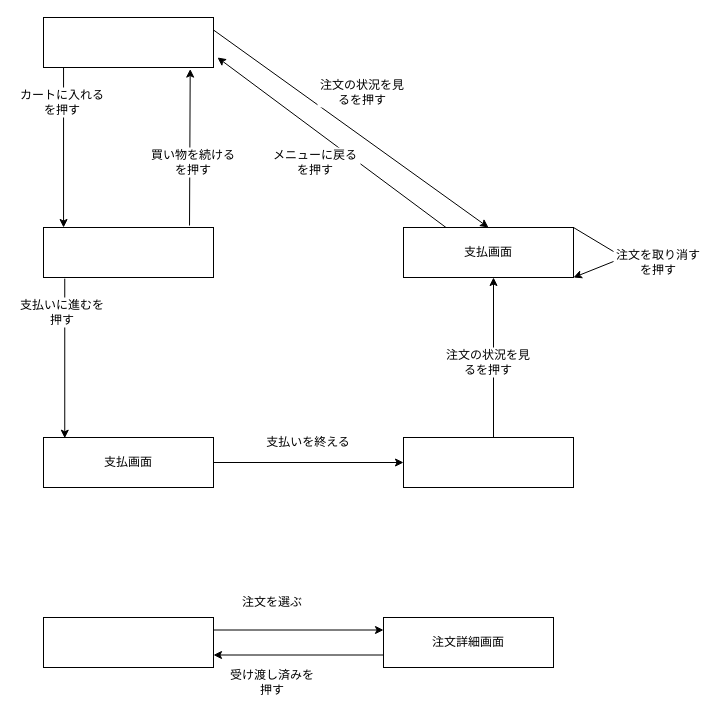
This 720x715 diagram has some shape labels left out. Here are the shapes that lost their labels. From the top down, the centre of each, then its label:
At (128,42): "ドリンクとフード 一覧".
At (128,252): "決済画面".
At (488,462): "注文完了画面".
At (128,642): "注文一覧画面".
